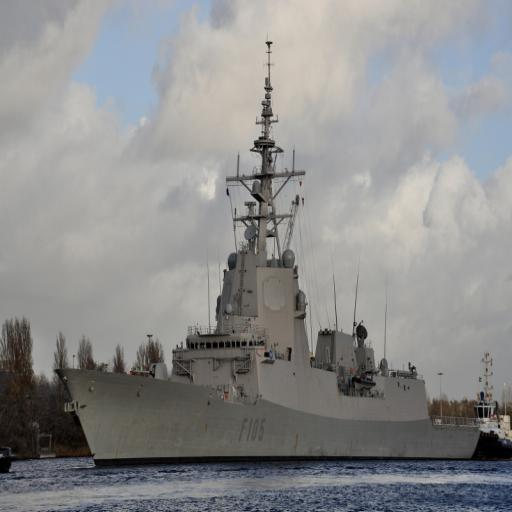Fragata: (56, 24, 491, 478)
